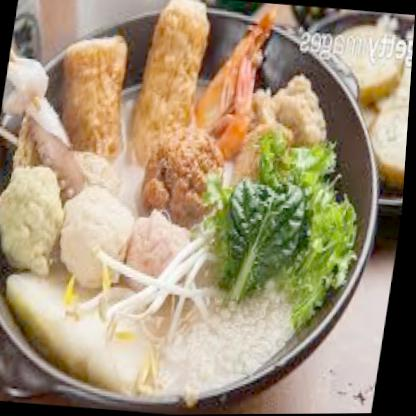boiled fish paste soup: (0, 6, 368, 400)
